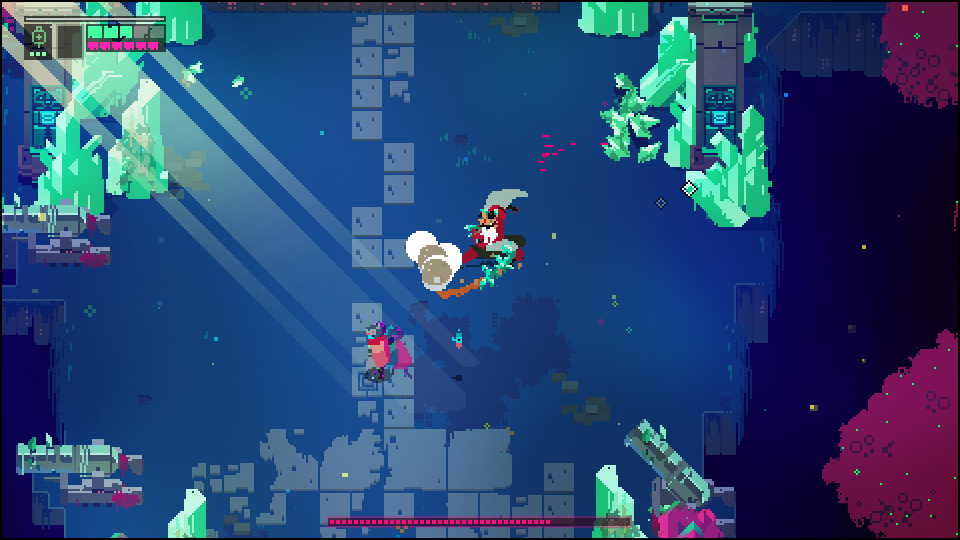hanged_man: (446, 186, 532, 295)
player: (362, 321, 390, 380)
